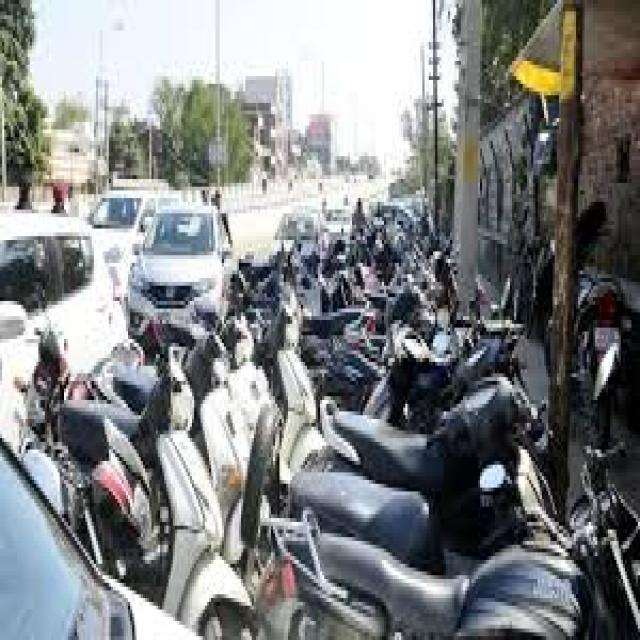No Parking: (308, 138, 599, 640)
